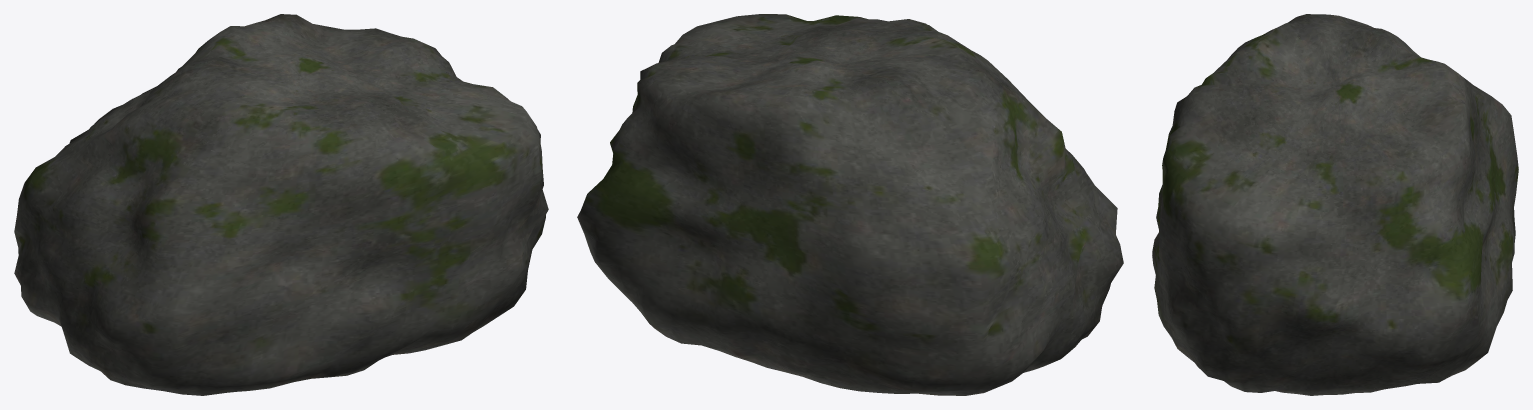
Rendered from boulder.glb.
The picture shows the model from 3 angles, left to right: view 1: azimuth 30°, elevation 25°; view 2: azimuth 150°, elevation 25°; view 3: azimuth 270°, elevation 25°; orthographic projection. The views are drawn at different scales.
Parts seen in each view (by area): view 1: Moss boulder • Game LOD1; view 2: Moss boulder • Game LOD1; view 3: Moss boulder • Game LOD1.
Boxes of the visible parts, x1=… form: Moss boulder • Game LOD1: x1=14, y1=14, x2=548, y2=395; Moss boulder • Game LOD1: x1=577, y1=14, x2=1123, y2=395; Moss boulder • Game LOD1: x1=1152, y1=14, x2=1518, y2=395.
Bounding box in the file's own units: 2.72 × 1.48 × 1.95.
Materials: 1 (1 with a texture image).
